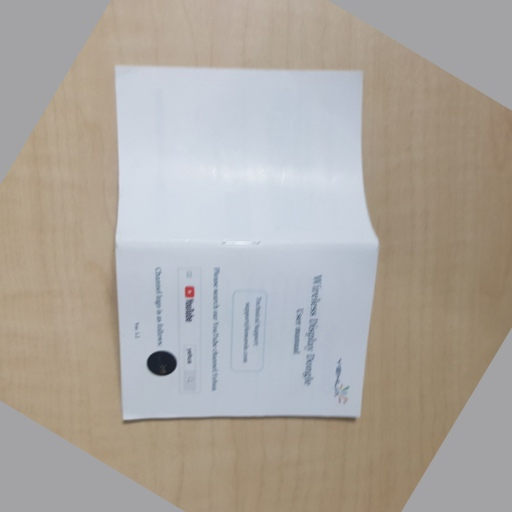Paper_0: (107, 60, 385, 438)
